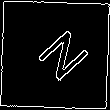N_SW: (23, 23, 87, 87)
